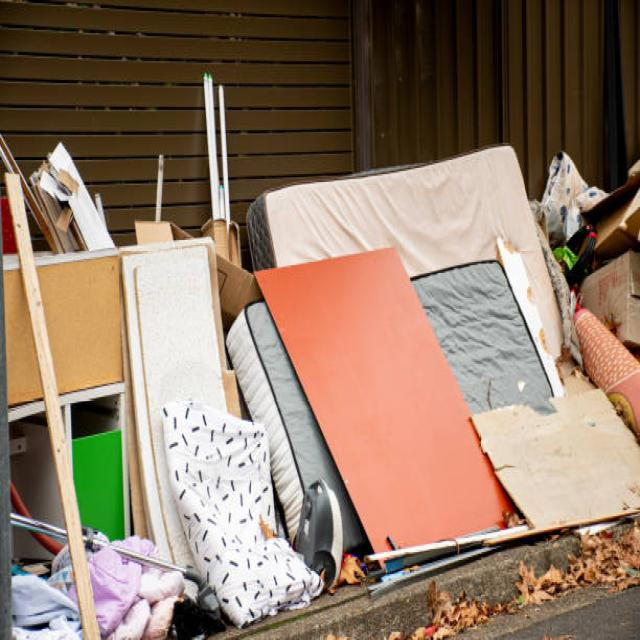dumping: (1, 89, 640, 519)
